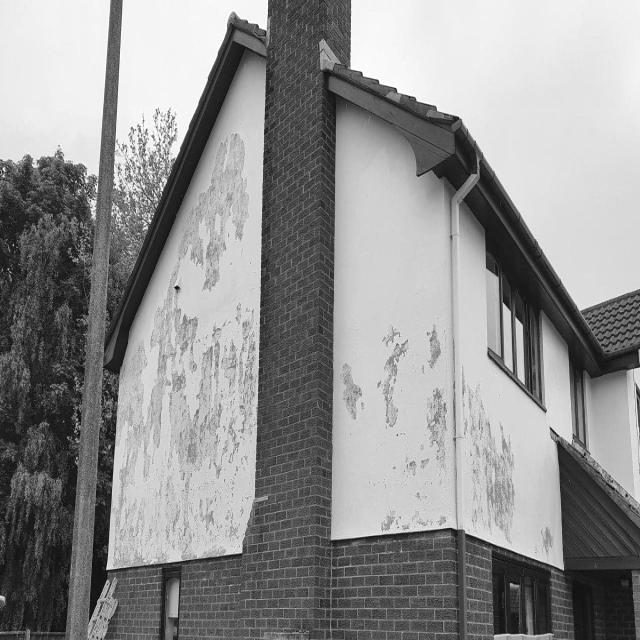peeling paint: (101, 113, 265, 572), (334, 308, 560, 554)
